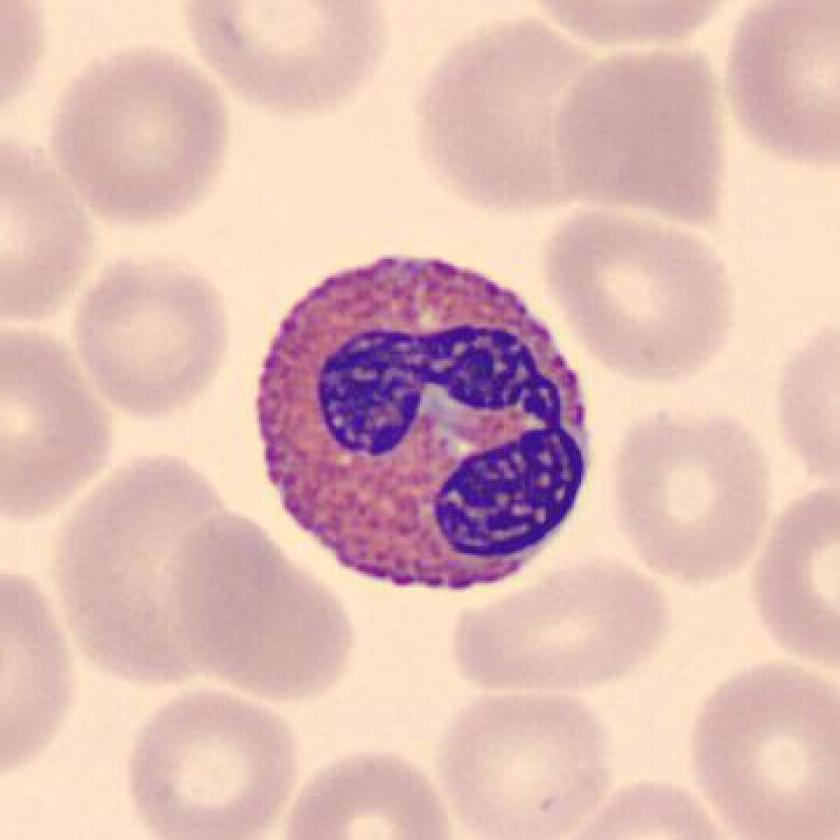eosinophil: (251, 240, 603, 610)
